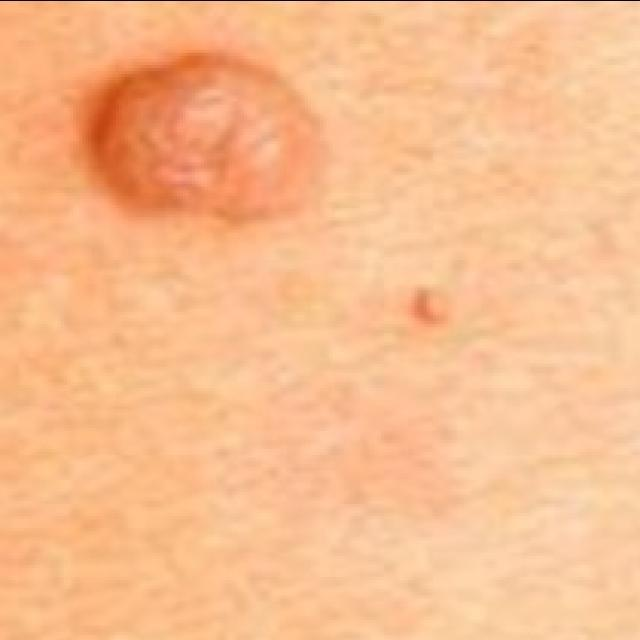wart: (79, 46, 320, 240)
